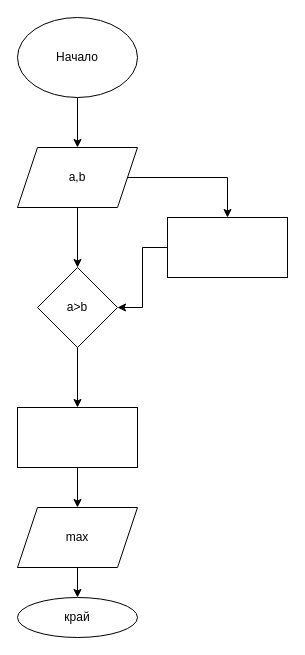
The diagram is 305 pixels wide and 655 high, and some of its shapes have lost their labels. Each missing label, with the centre of its shape:
max = a: (227,247)
max = b: (77,437)
